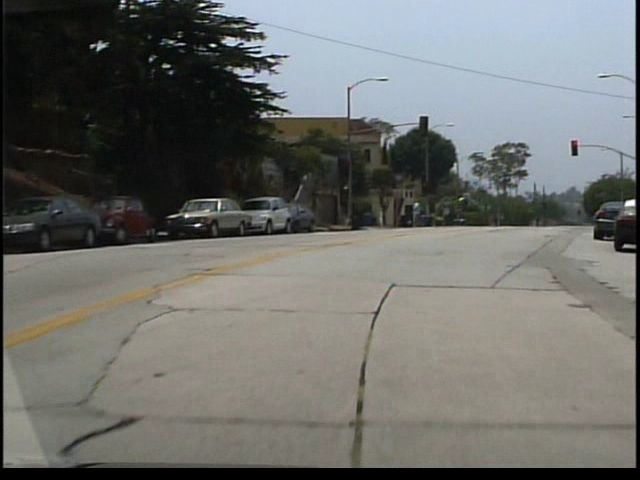person: (414, 199, 427, 230)
